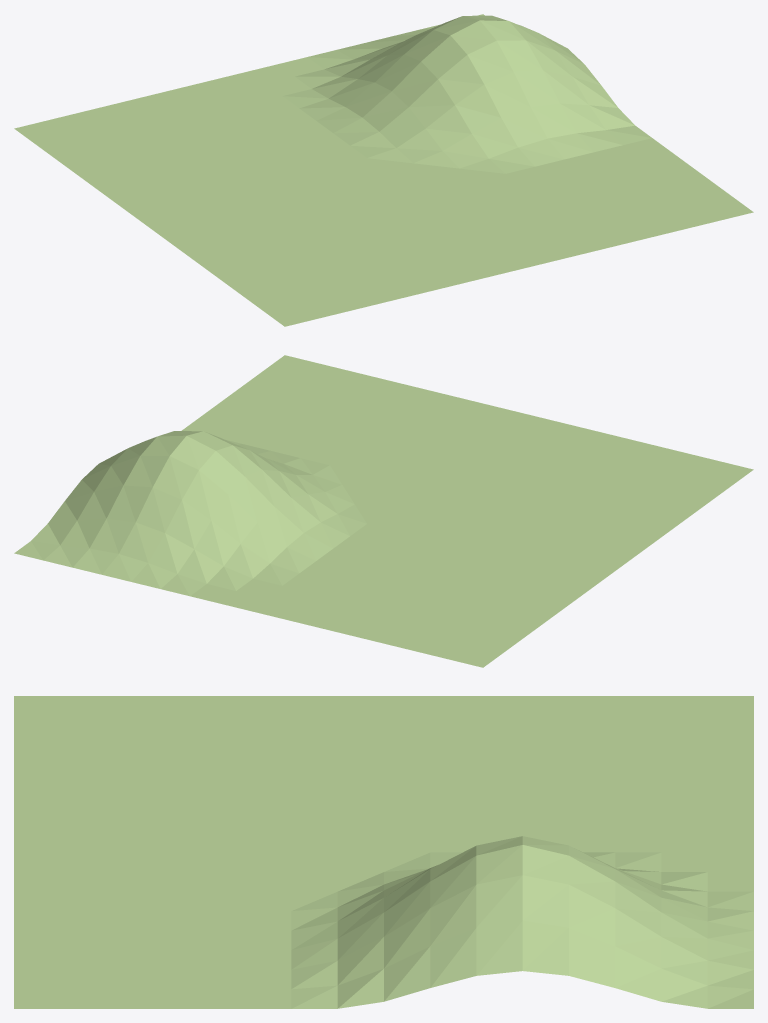
The picture shows the model from 3 angles, top to bottom: view 1: azimuth 30°, elevation 25°; view 2: azimuth 150°, elevation 25°; view 3: azimuth 270°, elevation 25°; orthographic projection. The views are drawn at different scales.
Visible parts, largest first — view 1: Plane; view 2: Plane; view 3: Plane.
Boxes of the visible parts, x1,y1,x2,y2 form: Plane: (14, 14, 753, 326); Plane: (14, 355, 753, 667); Plane: (14, 696, 753, 1008).
Bounding box in the file's own units: 13.51 × 13.51 × 2.12.
